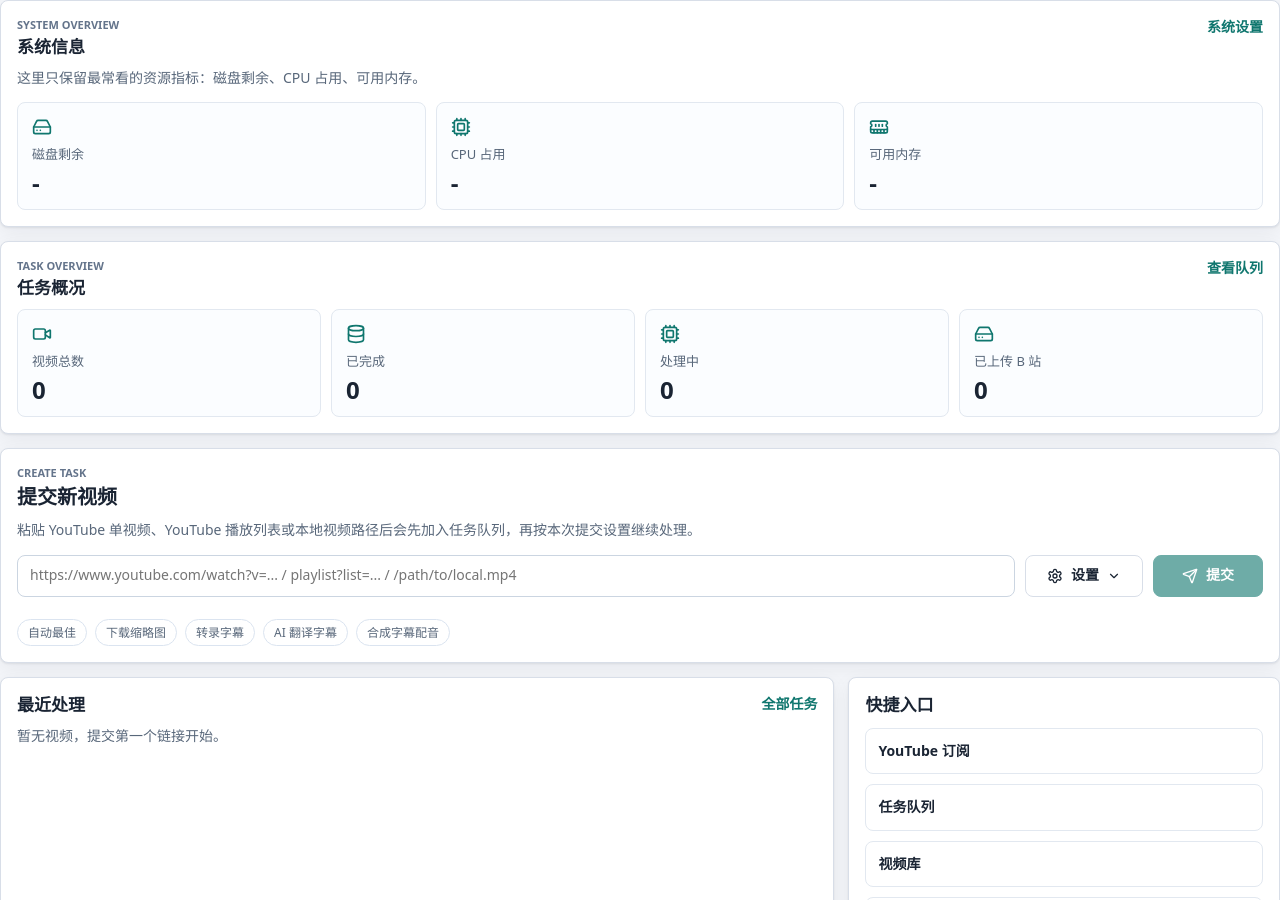
Test case: DashboardPage › opens task submit settings without navigating to system settings
This screenshot has width=1280, height=900.
Click the button "设置": (1084, 576) [1025,555,1143,597]
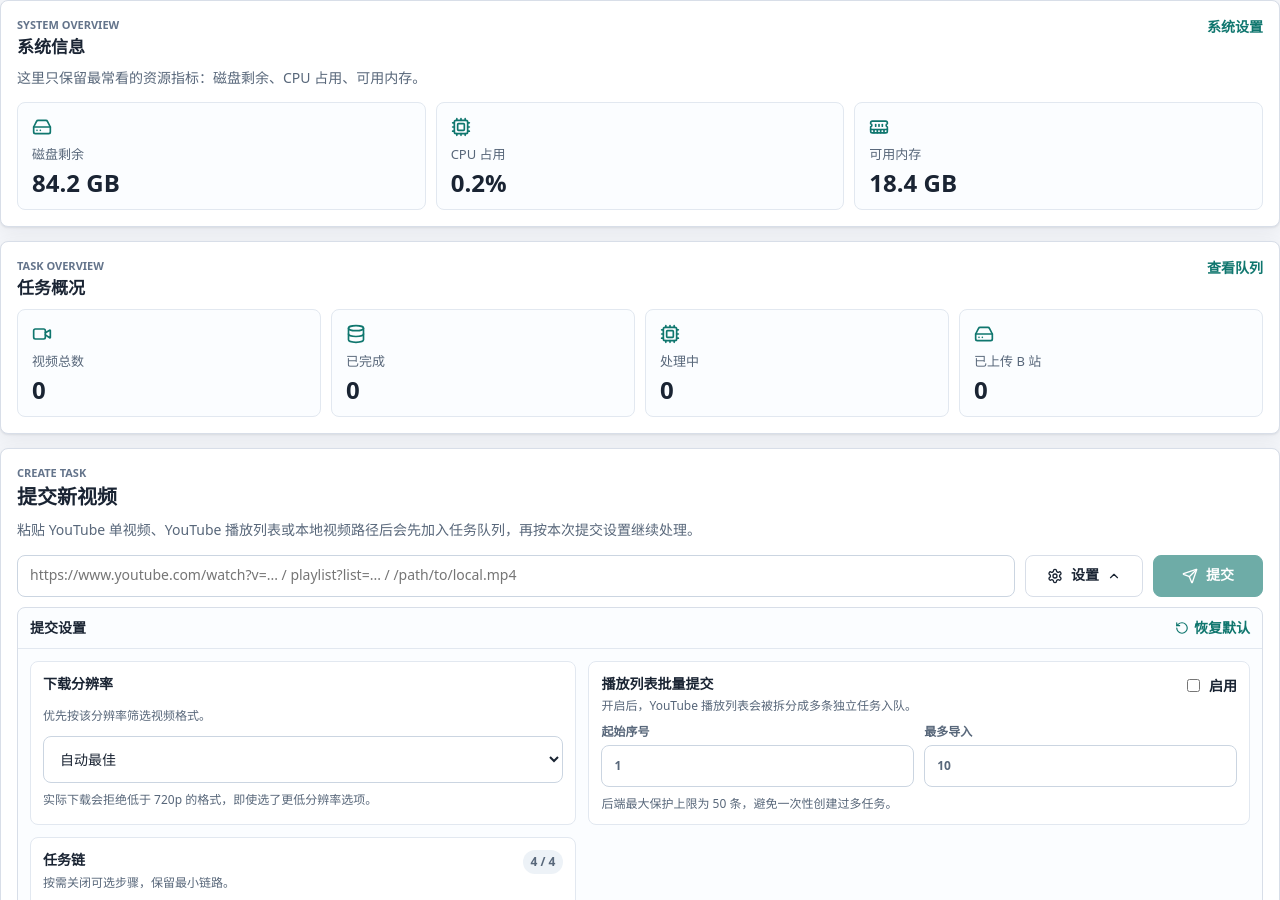
Expected: the button "设置" is expanded, [1025,555,1143,597]
Expected: the text "提交设置" is shown, [30,618,86,638]
Expected: the dropdown labelled "下载分辨率" is shown, [43,736,564,783]
